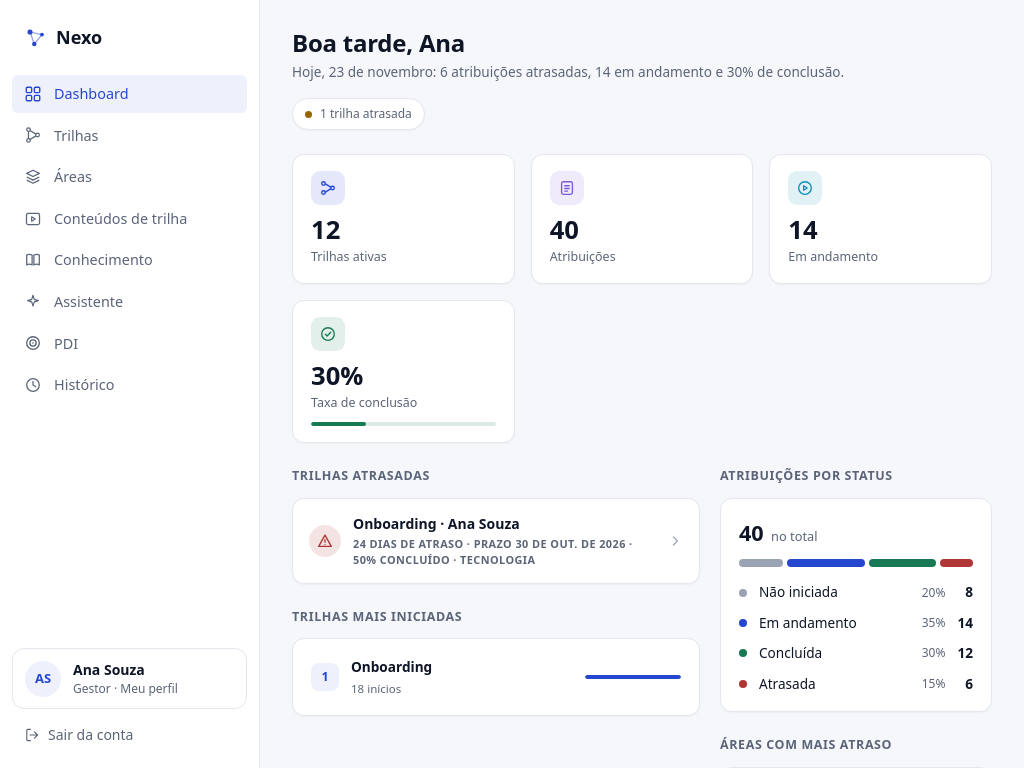
Test: ConhecimentoPage › o item Conhecimento aparece no menu para GESTOR
Click the link "Conhecimento" at (88,260), box [24, 250, 153, 269]
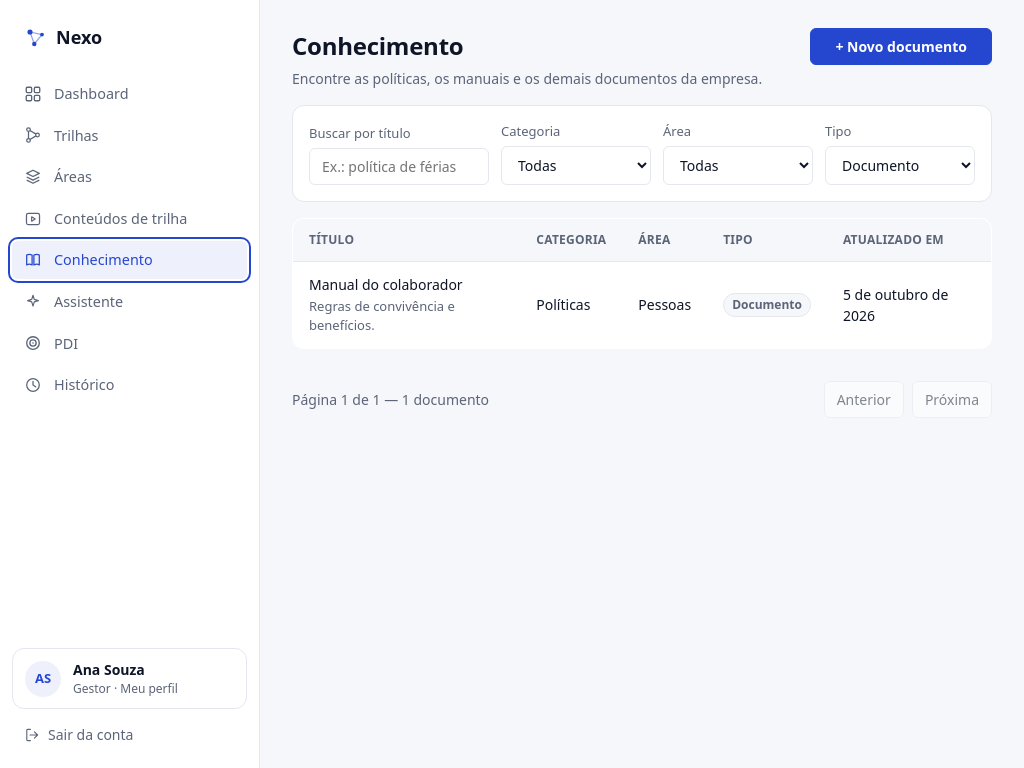
Expected: the heading "Conhecimento" is shown, [292, 29, 463, 62]
